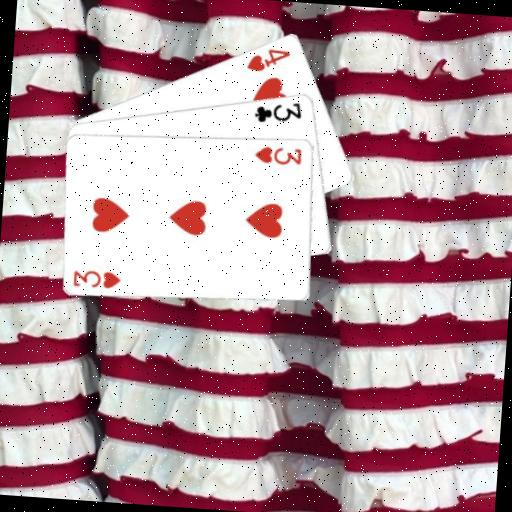3C: (251, 96, 305, 127)
3H: (70, 265, 123, 291), (252, 143, 304, 168)
4H: (244, 43, 293, 75)
